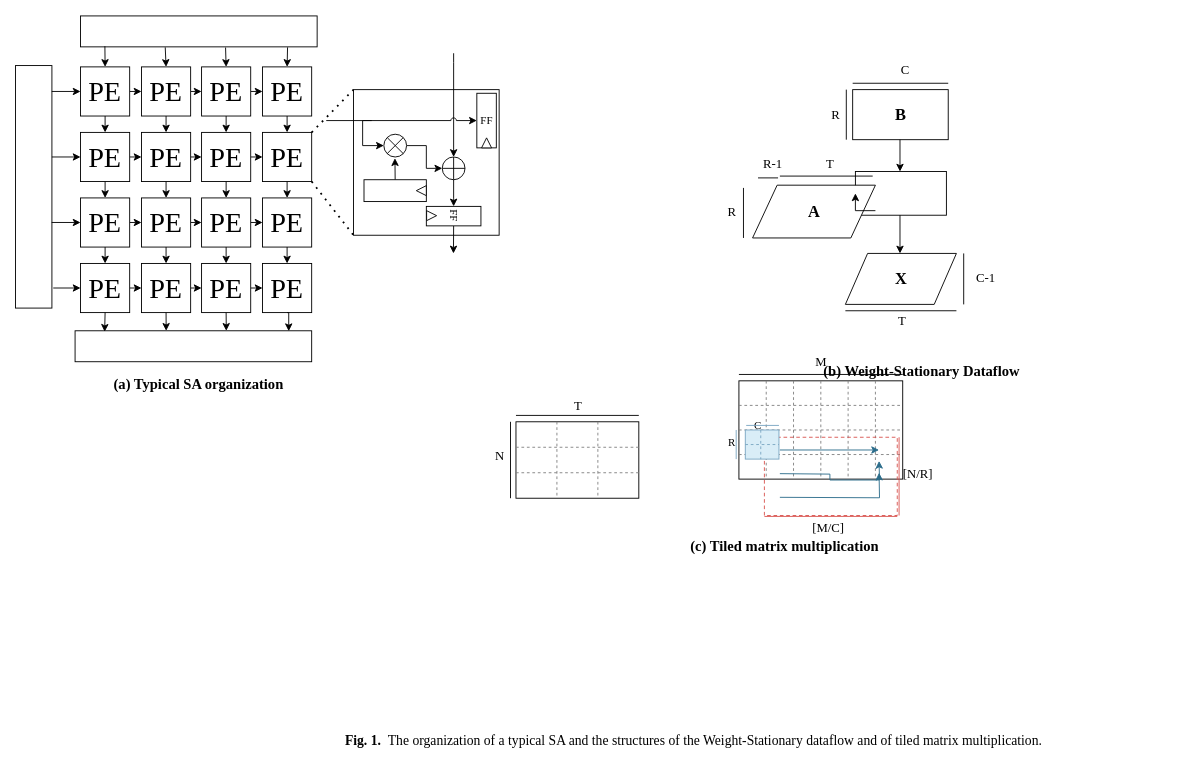
Image size: 1188x779. Some labels were removed from this diagram. Here are the shapes that lost their labels. From the top down, the box of each, then its label:
(80, 15, 317, 47): Weight Buffer
(15, 65, 52, 308): Input Buffer
(363, 179, 426, 202): Weight
(854, 171, 946, 215): Systolic Array
(74, 330, 312, 362): Output Buffer
